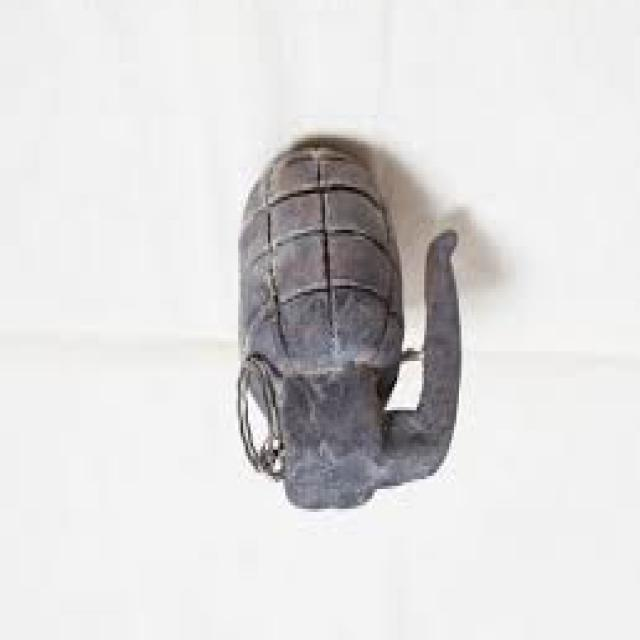grenade: (225, 130, 471, 522)
